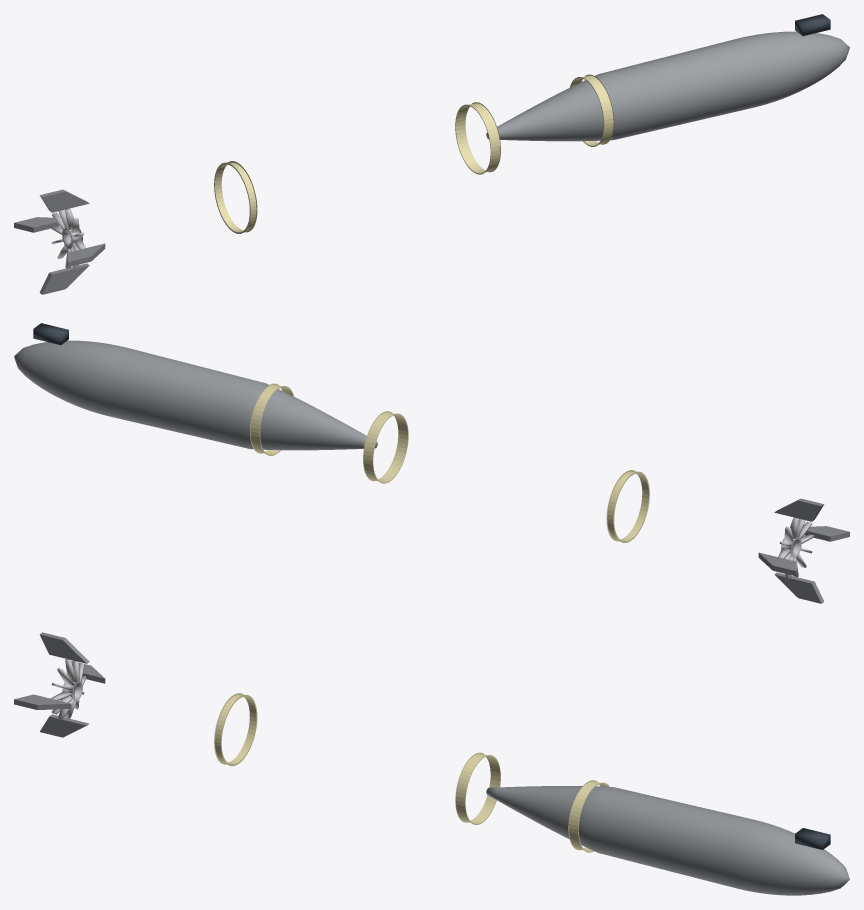
The model's file is CN_TORP_Yu3_LOD0.fbx.
The picture shows the model from 3 angles, top to bottom: view 1: azimuth 30°, elevation 25°; view 2: azimuth 150°, elevation 25°; view 3: azimuth 330°, elevation 25°; orthographic projection.
Visible parts, largest first — view 1: WPN_CN_TORP_Yu3_LOD0_Body, WPN_CN_TORP_Yu3_LOD0_Marking, WPN_CN_TORP_Yu3_LOD0_Fins, WPN_CN_TORP_Yu3_LOD0_Propulsor, WPN_CN_TORP_Yu3_LOD0_Seeker; view 2: WPN_CN_TORP_Yu3_LOD0_Body, WPN_CN_TORP_Yu3_LOD0_Marking, WPN_CN_TORP_Yu3_LOD0_Fins, WPN_CN_TORP_Yu3_LOD0_Propulsor, WPN_CN_TORP_Yu3_LOD0_Seeker; view 3: WPN_CN_TORP_Yu3_LOD0_Body, WPN_CN_TORP_Yu3_LOD0_Marking, WPN_CN_TORP_Yu3_LOD0_Fins, WPN_CN_TORP_Yu3_LOD0_Propulsor, WPN_CN_TORP_Yu3_LOD0_Seeker.
Boxes of the visible parts, box(x1,y1,x2,y2) form: WPN_CN_TORP_Yu3_LOD0_Body: box(486, 31, 849, 141); WPN_CN_TORP_Yu3_LOD0_Marking: box(214, 74, 613, 233); WPN_CN_TORP_Yu3_LOD0_Fins: box(14, 189, 105, 294); WPN_CN_TORP_Yu3_LOD0_Propulsor: box(49, 208, 85, 269); WPN_CN_TORP_Yu3_LOD0_Seeker: box(795, 14, 830, 36); WPN_CN_TORP_Yu3_LOD0_Body: box(14, 340, 377, 450); WPN_CN_TORP_Yu3_LOD0_Marking: box(250, 383, 649, 542); WPN_CN_TORP_Yu3_LOD0_Fins: box(758, 498, 849, 603); WPN_CN_TORP_Yu3_LOD0_Propulsor: box(778, 517, 814, 578); WPN_CN_TORP_Yu3_LOD0_Seeker: box(33, 323, 68, 345); WPN_CN_TORP_Yu3_LOD0_Body: box(486, 786, 849, 895); WPN_CN_TORP_Yu3_LOD0_Marking: box(214, 693, 609, 852); WPN_CN_TORP_Yu3_LOD0_Fins: box(14, 632, 105, 737); WPN_CN_TORP_Yu3_LOD0_Propulsor: box(50, 659, 86, 720); WPN_CN_TORP_Yu3_LOD0_Seeker: box(795, 828, 830, 849).
Size of the model in its own units: 7.01 by 0.8082 by 0.8082.
